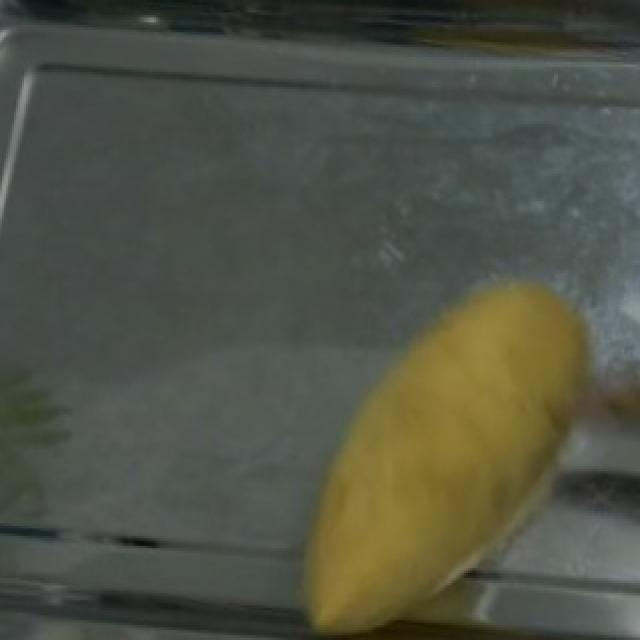fruit: (302, 245, 632, 640)
